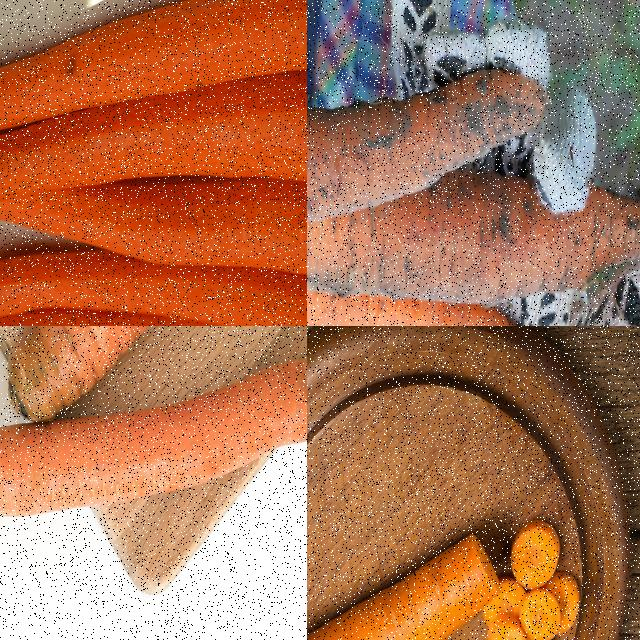carrot: (0, 369, 306, 554), (307, 165, 639, 313), (0, 61, 306, 217), (0, 0, 306, 145), (307, 64, 552, 239), (0, 326, 272, 430), (0, 200, 306, 291), (0, 252, 306, 325), (307, 531, 505, 639), (307, 233, 527, 325), (479, 518, 585, 639)
